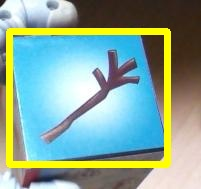Blue4: (9, 31, 167, 164)
